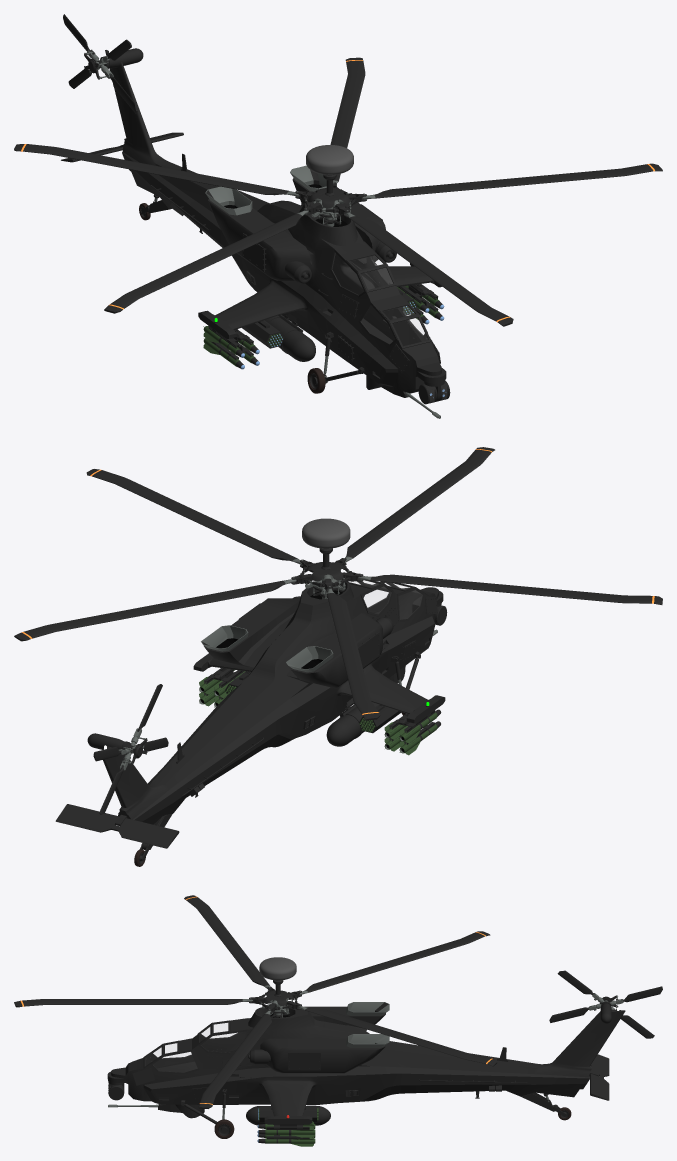
Rendered from odz-10ag_attack_helicopter_10a.glb.
3 views of the same model, one above another, from view 1: azimuth 30°, elevation 25°; view 2: azimuth 150°, elevation 25°; view 3: azimuth 270°, elevation 25° (orthographic). The views are drawn at different scales.
Parts seen in each view (by area): view 1: object 1, object 29, object 2, object 36, object 42, object 43, object 113; view 2: object 1, object 29, object 26, object 36, object 43, object 42, object 113, object 2; view 3: object 1, object 29, object 36, object 42, object 2, object 43, object 26, object 114, Cube.054.
Boxes of the visible parts, x1,y1,x2,y2 form: object 1: (105, 50, 446, 393); object 29: (14, 57, 662, 326); object 2: (330, 241, 431, 348); object 36: (63, 14, 137, 114); object 42: (242, 204, 440, 372); object 43: (306, 145, 353, 196); object 113: (264, 315, 315, 361); object 1: (102, 580, 445, 825); object 29: (14, 447, 662, 720); object 26: (55, 804, 179, 848); object 36: (93, 684, 168, 814); object 43: (302, 518, 350, 569); object 42: (238, 596, 437, 667); object 113: (326, 702, 378, 746); object 2: (348, 580, 428, 621); object 1: (107, 1002, 625, 1124); object 29: (14, 895, 497, 1108); object 36: (549, 970, 662, 1038); object 42: (132, 1049, 320, 1100); object 2: (143, 1018, 248, 1074); object 43: (259, 957, 296, 996); object 26: (590, 1054, 609, 1100); object 114: (246, 1106, 330, 1125); Cube.054: (267, 1124, 309, 1139).
Size of the model in its own units: 15.27 by 5.24 by 19.66.
